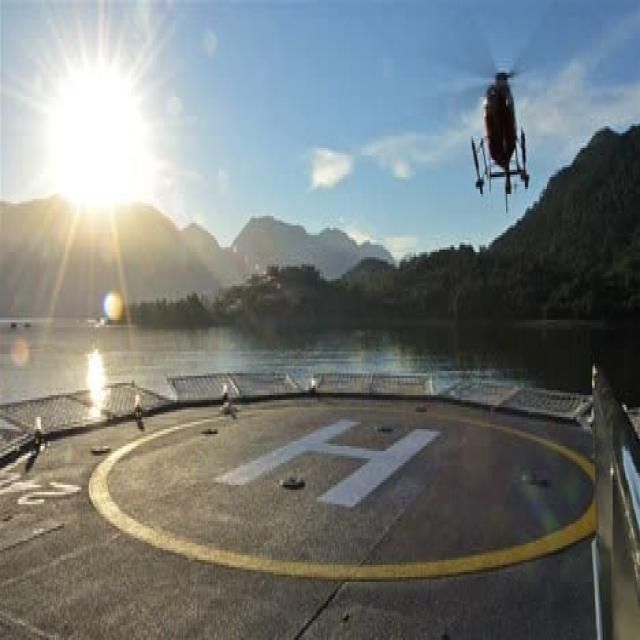helipad: (81, 393, 596, 582)
